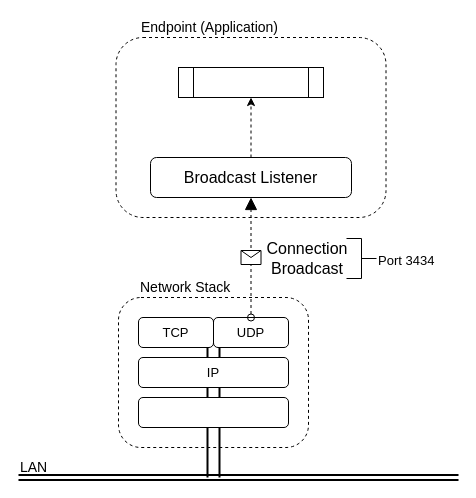
The diagram is 476 pixels wide and 498 high, and some of its shapes have lost their labels. Each missing label, with the centre of its shape:
"Physical" belongs at point (213, 412).
"Report Connection" belongs at point (251, 82).
